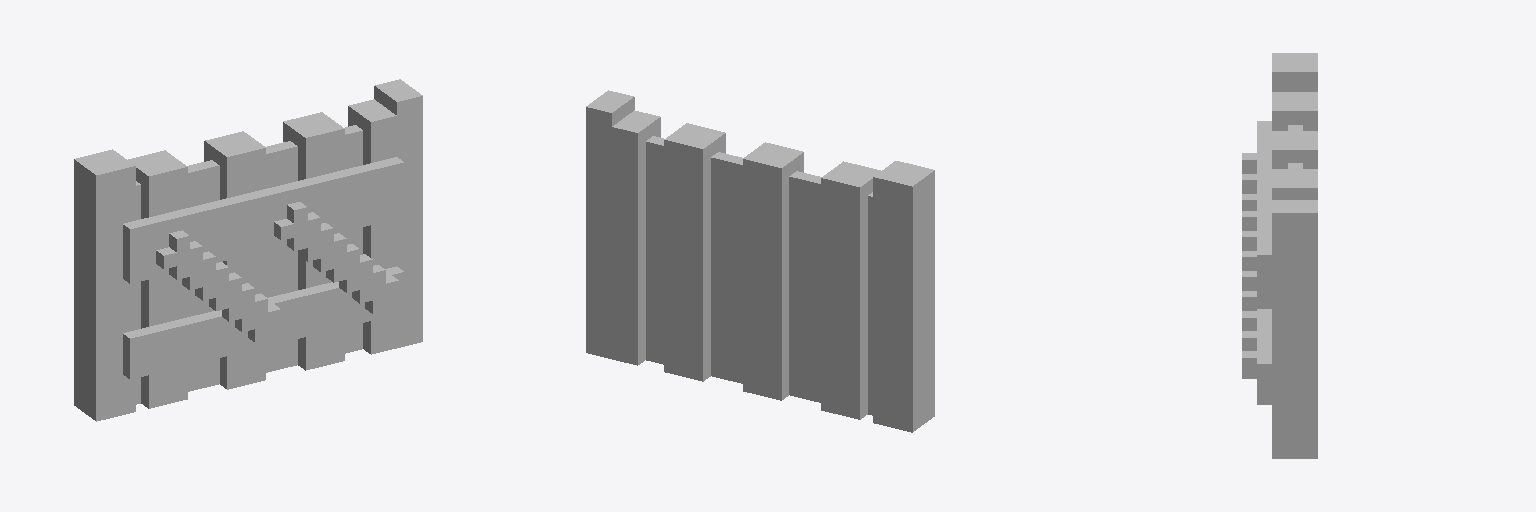
The model's file is gate.obj.
3 views of the same model, side by side, from view 1: azimuth 30°, elevation 25°; view 2: azimuth 150°, elevation 25°; view 3: azimuth 270°, elevation 25° (orthographic).
Parts seen in each view (by area): view 1: object 1; view 2: object 1; view 3: object 1.
Part boxes in pixels (bbox=[...]): object 1: bbox=[74, 79, 422, 421]; object 1: bbox=[586, 90, 934, 432]; object 1: bbox=[1242, 53, 1317, 458].
Size of the model in its own units: 2.5 by 1.8 by 0.5.